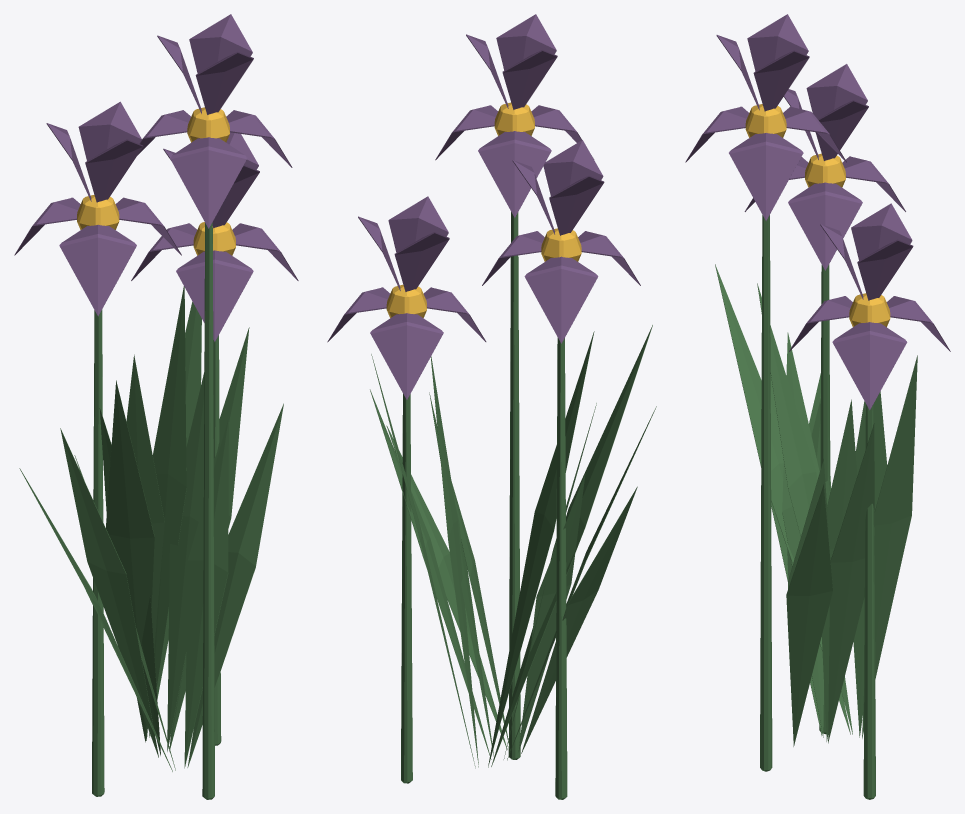
The model's file is b08_bearded_iris.glb.
3 views of the same model, side by side, from view 1: azimuth 30°, elevation 25°; view 2: azimuth 150°, elevation 25°; view 3: azimuth 270°, elevation 25° (orthographic). The views are drawn at different scales.
Parts seen in each view (by area): view 1: b08_bearded_iris; view 2: b08_bearded_iris; view 3: b08_bearded_iris.
Part boxes in pixels (x1,y1,x2,y2): b08_bearded_iris: [14, 14, 298, 799]; b08_bearded_iris: [327, 14, 656, 799]; b08_bearded_iris: [685, 14, 950, 799].
Size of the model in its own units: 0.4554 by 1.1 by 0.3583.
